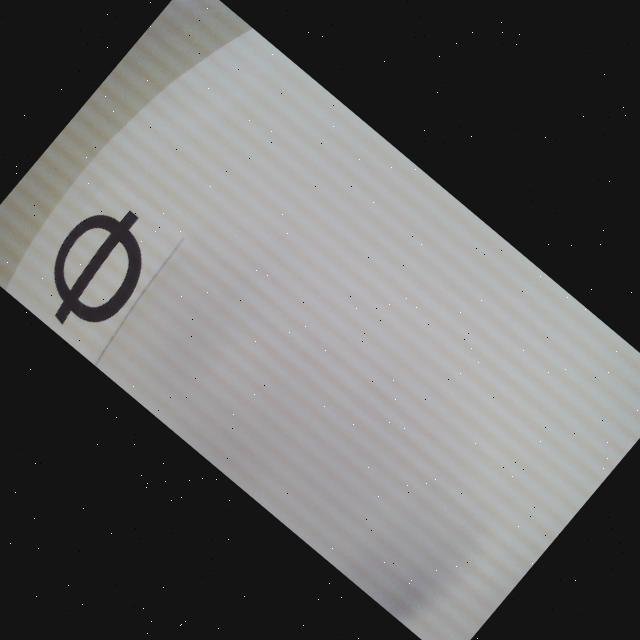PHI: (21, 189, 174, 347)
